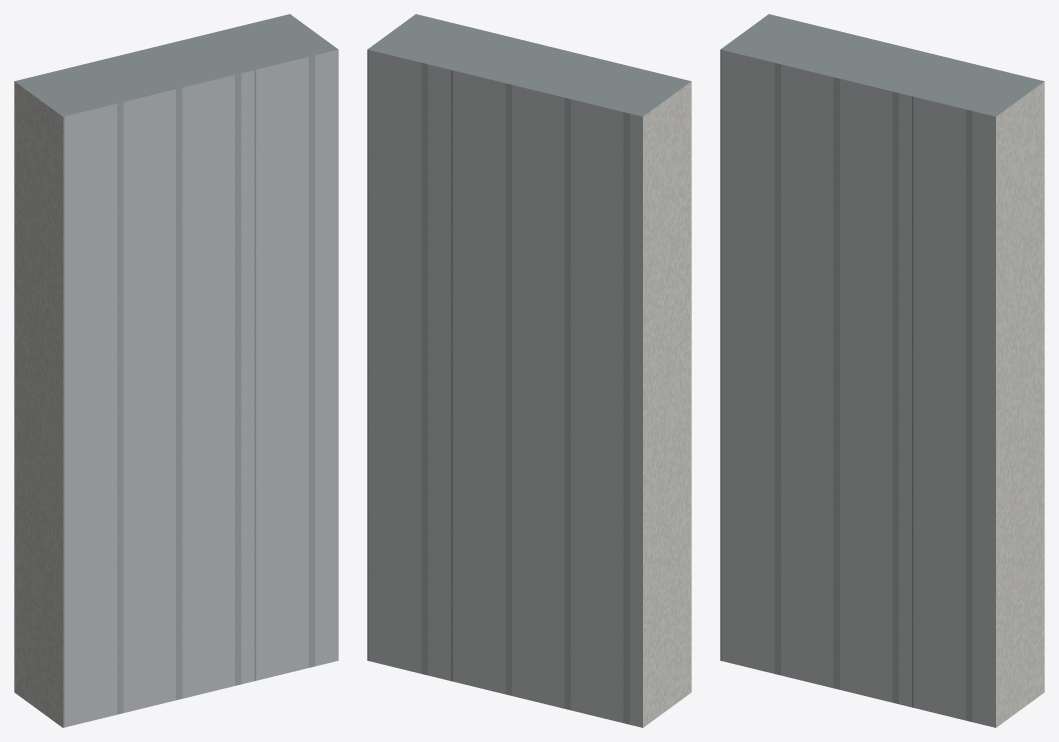
File: Wall_08.glb
3 views of the same model, side by side, from view 1: azimuth 30°, elevation 25°; view 2: azimuth 150°, elevation 25°; view 3: azimuth 330°, elevation 25° (orthographic).
Visible parts, largest first — view 1: Wall_NESW_08; view 2: Wall_NESW_08; view 3: Wall_NESW_08.
Part boxes in pixels (x1,y1,x2,y2): Wall_NESW_08: (14, 14, 338, 727); Wall_NESW_08: (367, 14, 691, 727); Wall_NESW_08: (720, 14, 1044, 727).
Bounding box in the file's own units: 0.59 × 1.25 × 0.18.
1 material, 1 textured.
